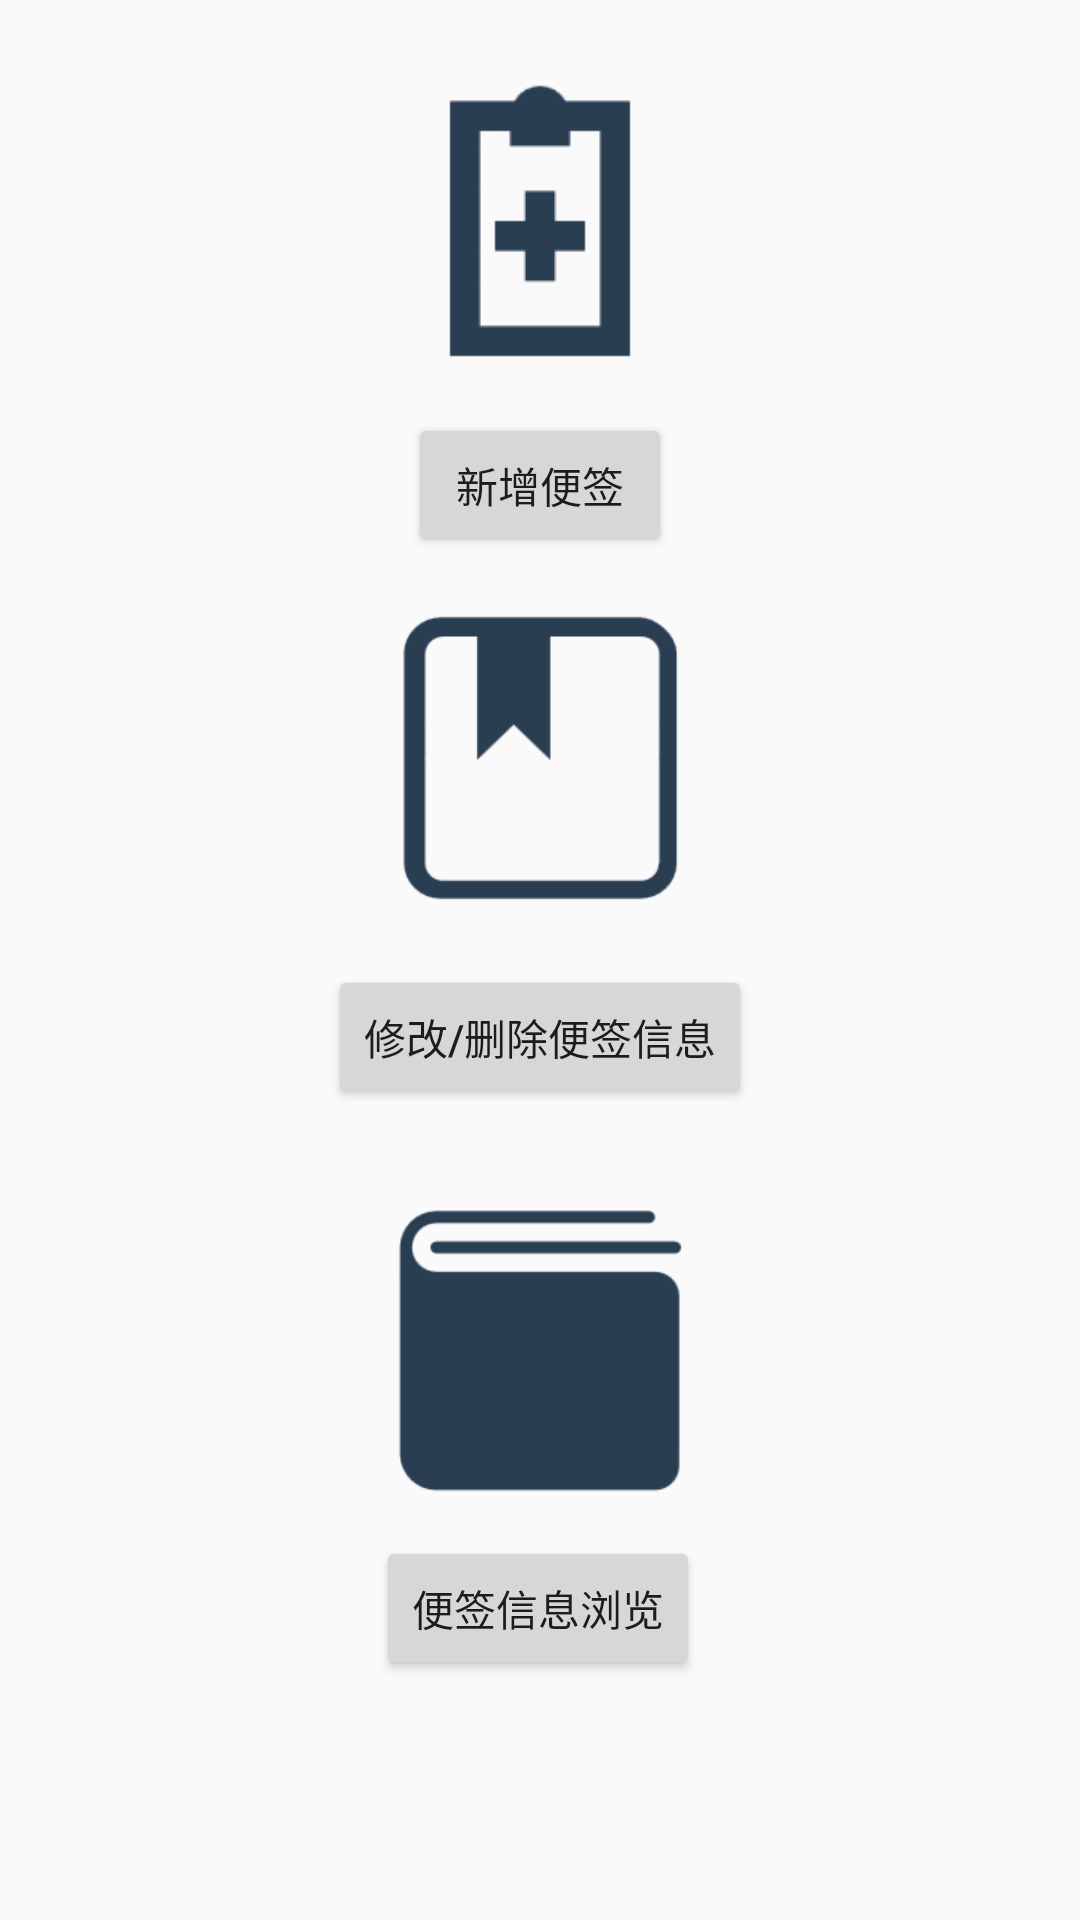

Icon bounding boxes for this 1080w x 1920h phone screenshot, format (x1, y1, x2, y2):
addnote: (449, 85, 631, 357)
